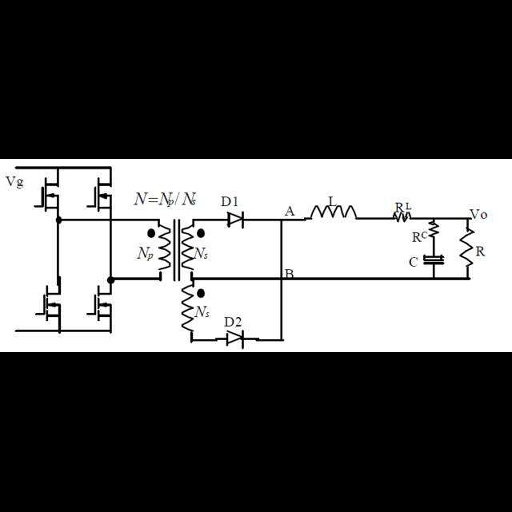inductor: (305, 205, 364, 225)
mos: (95, 283, 116, 323), (45, 282, 62, 324), (96, 174, 114, 213), (42, 175, 59, 213)
seconddiode: (225, 208, 248, 232), (224, 328, 247, 349)
secondresistance: (457, 224, 476, 272), (388, 211, 415, 224), (428, 220, 441, 242)
transformer: (155, 219, 196, 343)
